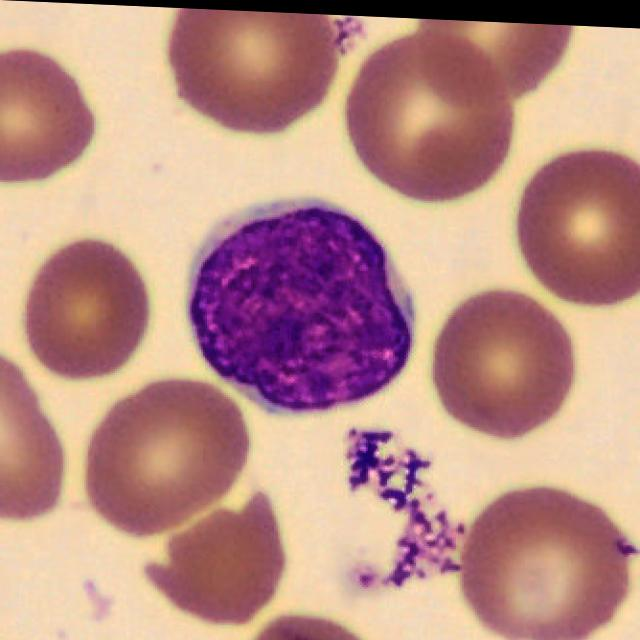Linfocito: (190, 200, 414, 409)
